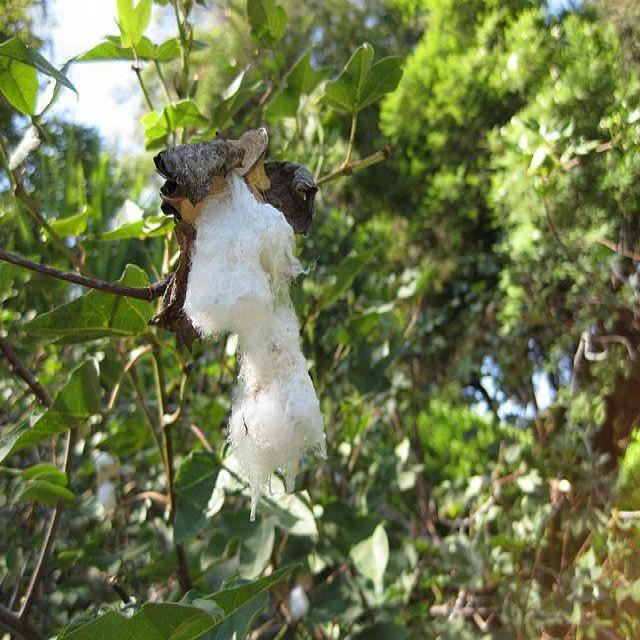Late_blight: (165, 150, 326, 515), (562, 86, 592, 110)
